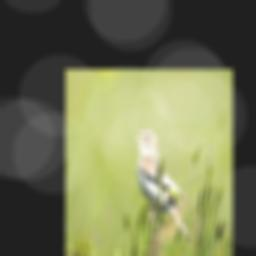Sparrow: (134, 128, 191, 242)
